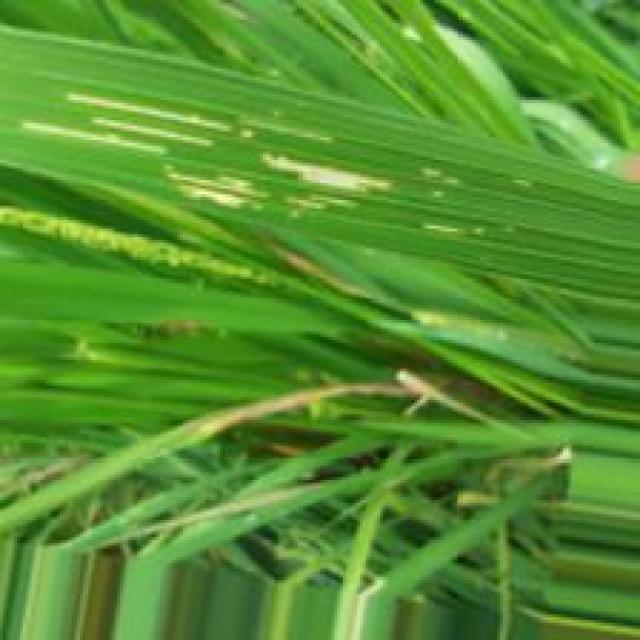Rice_Hispa: (73, 88, 224, 132), (27, 119, 164, 158), (266, 154, 392, 192), (100, 115, 219, 143), (173, 174, 254, 211)
